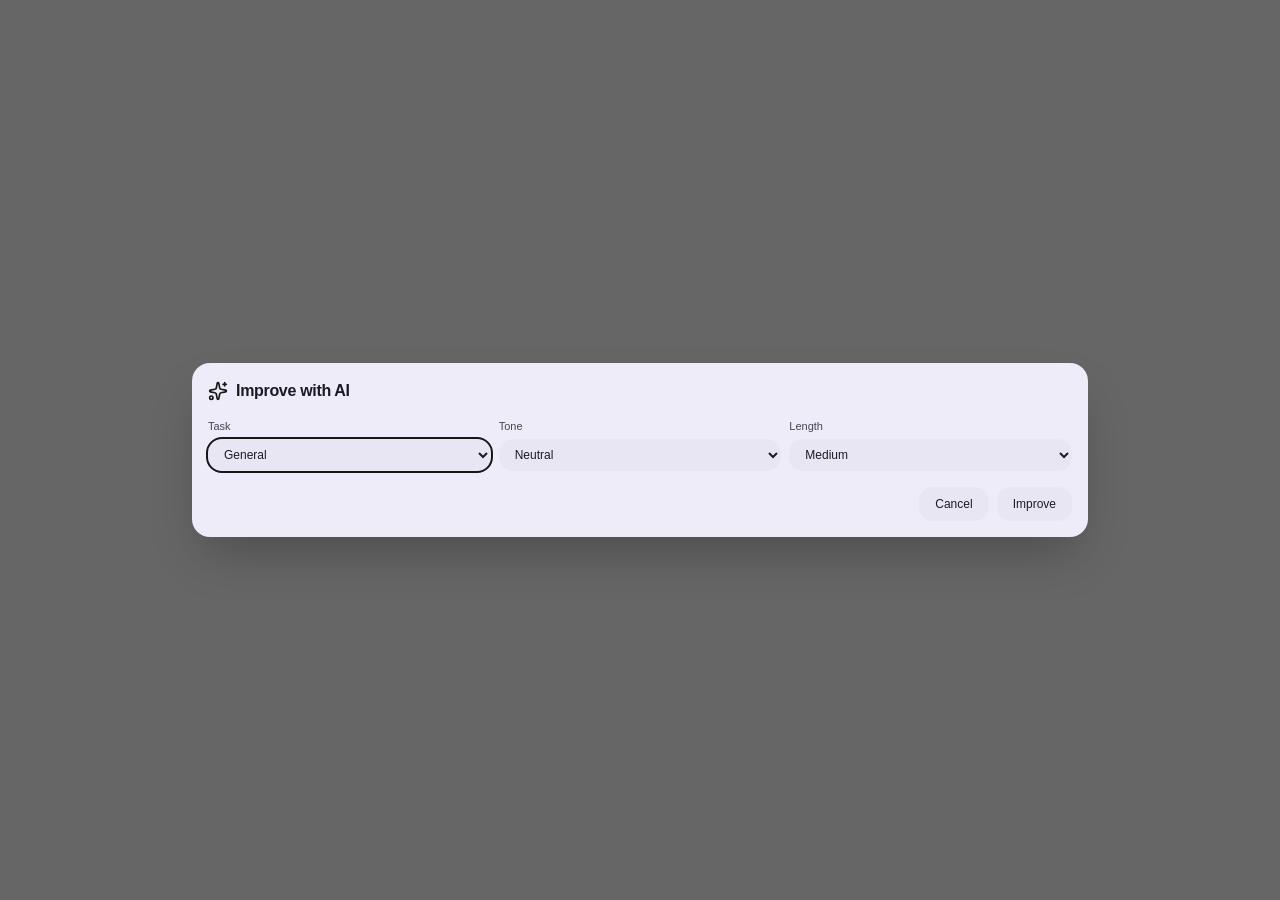
Test: ImprovePromptDialog › shows a friendly message when the request fails, and lets you retry
Click the button "Improve". click: (1034, 504)
box: [997,487,1072,521]
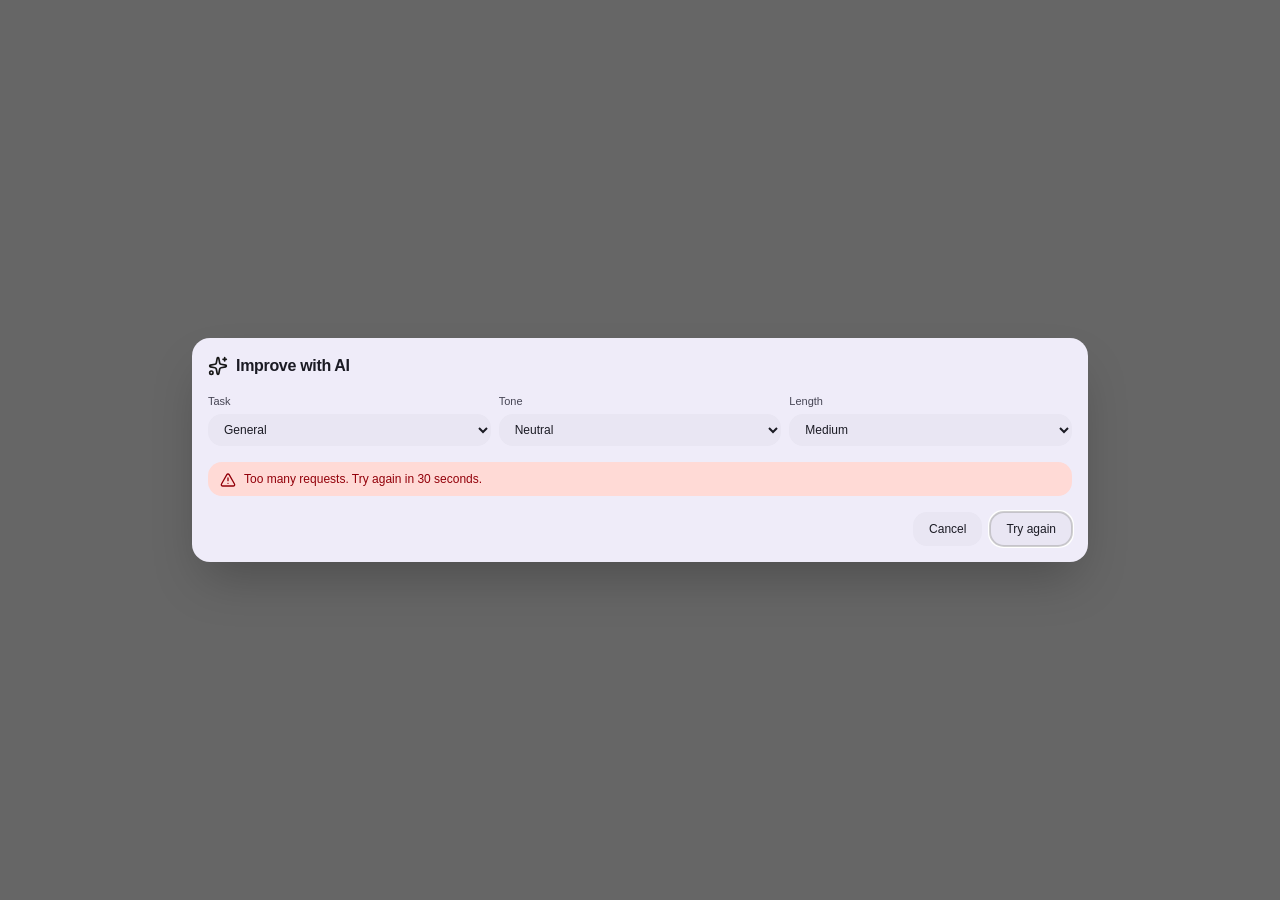
Expected: the button "Try again" is enabled, [990,512,1072,546]
Expected: the message shows "Try again in 30 seconds", [244,472,482,486]
